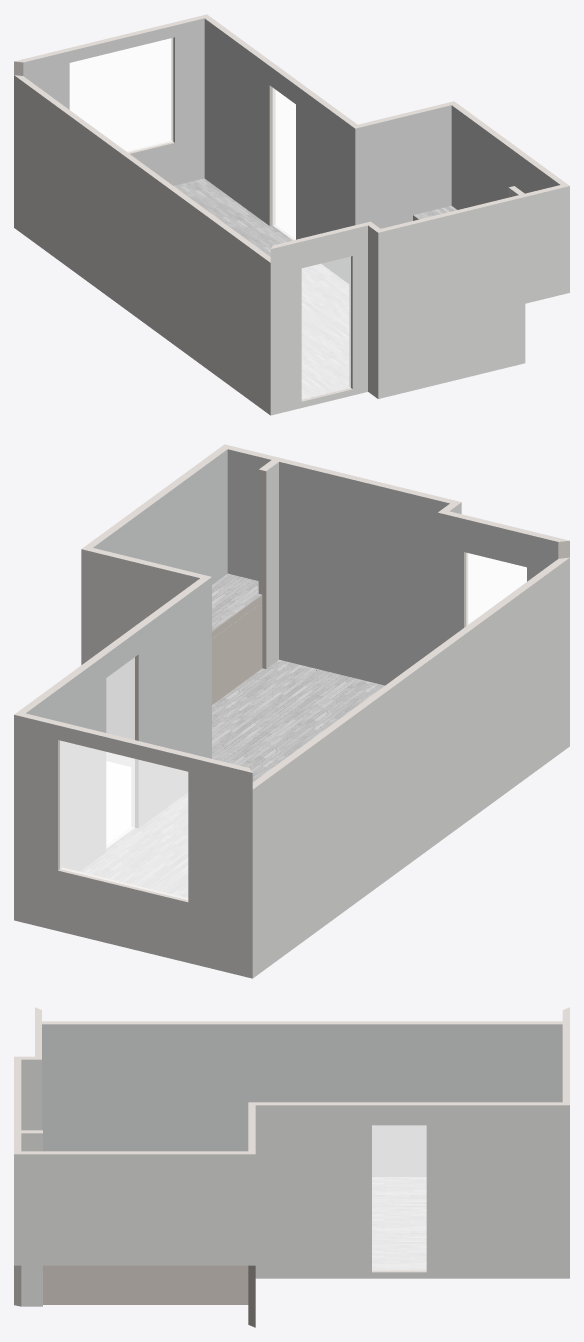
File: room.glb
3 views of the same model, one above another, from view 1: azimuth 30°, elevation 25°; view 2: azimuth 150°, elevation 25°; view 3: azimuth 270°, elevation 25° (orthographic). The views are drawn at different scales.
Parts seen in each view (by area): view 1: room; view 2: room; view 3: room.
Part boxes in pixels (x1,y1,x2,y2): room: (14, 14, 569, 415); room: (14, 444, 569, 978); room: (14, 1007, 569, 1327).
Size of the model in its own units: 4.86 by 2.67 by 7.76.
26 materials, 3 textured.
